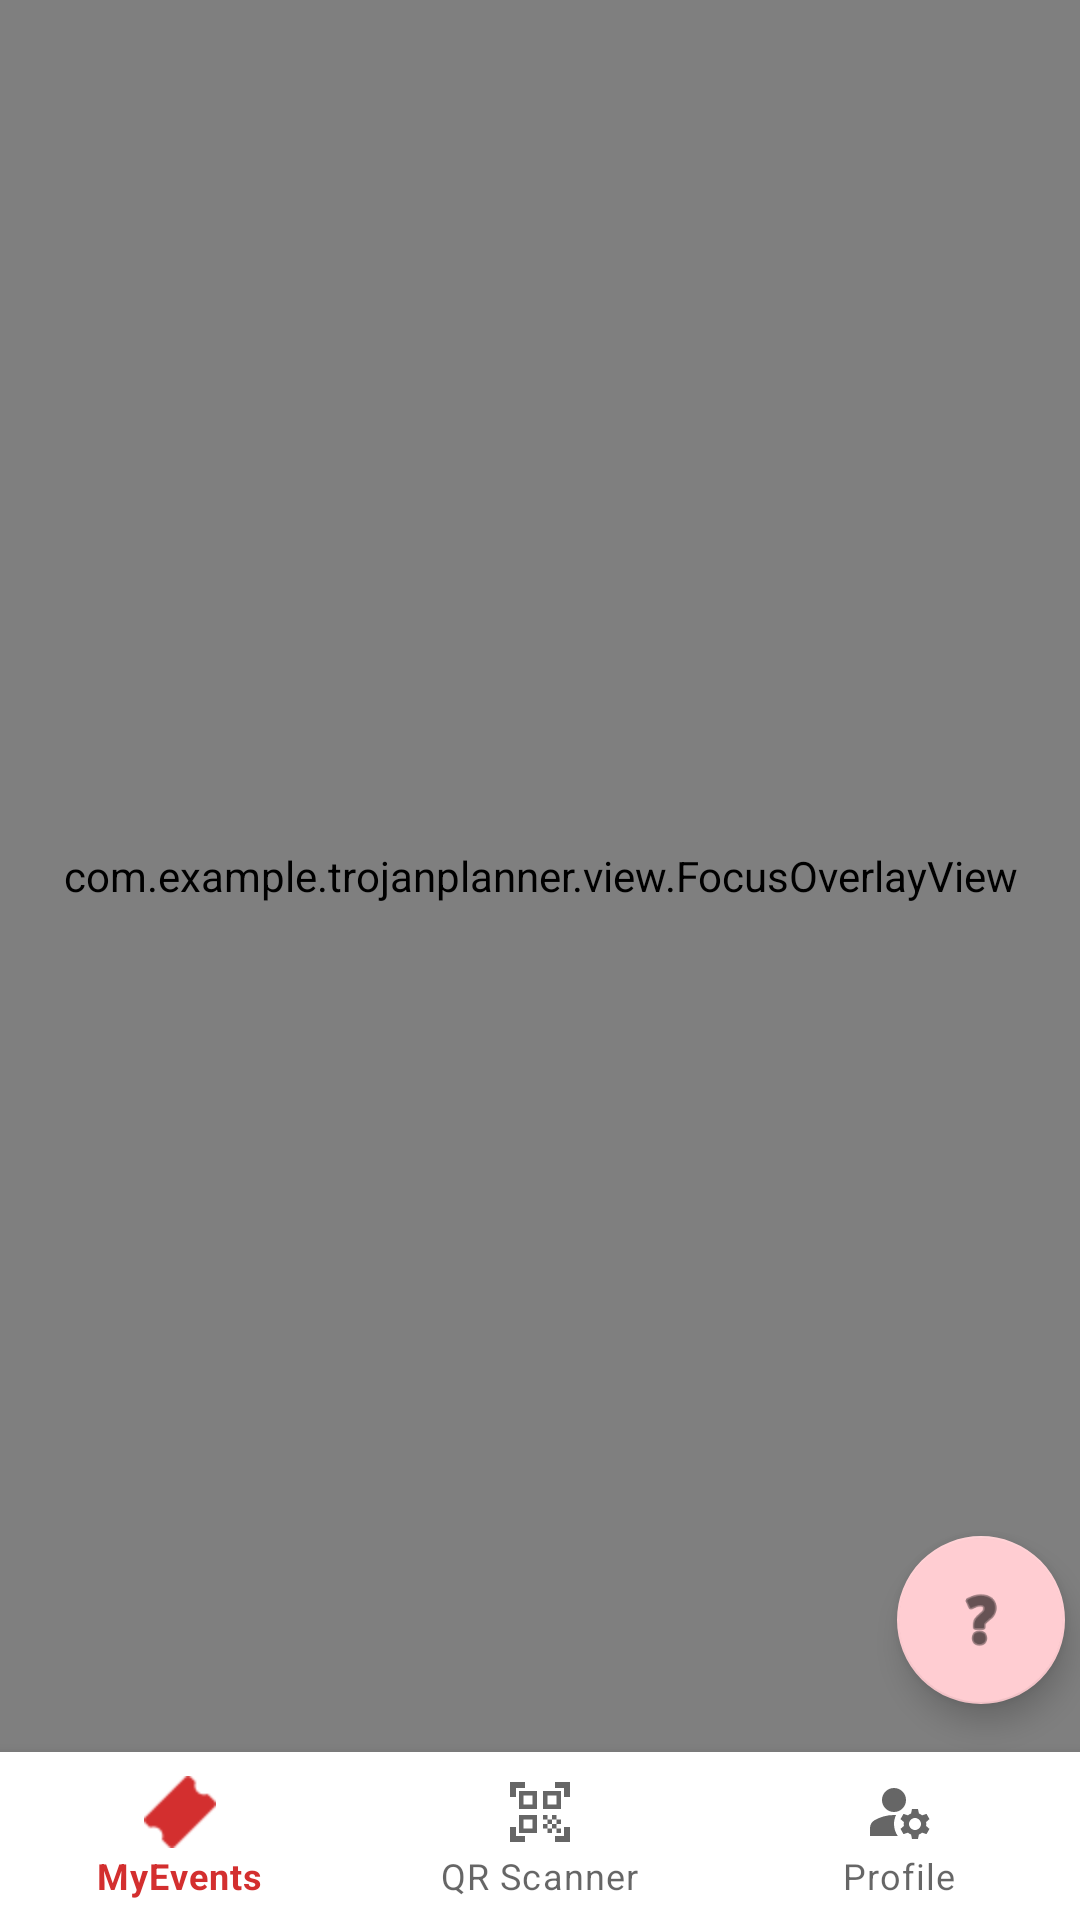

Locate icon controls on the screen. Image size 1080 × 1920, boxes as (x1, y1, x2, y2).
Helper for QR Scanner: (897, 1536, 1065, 1704)
